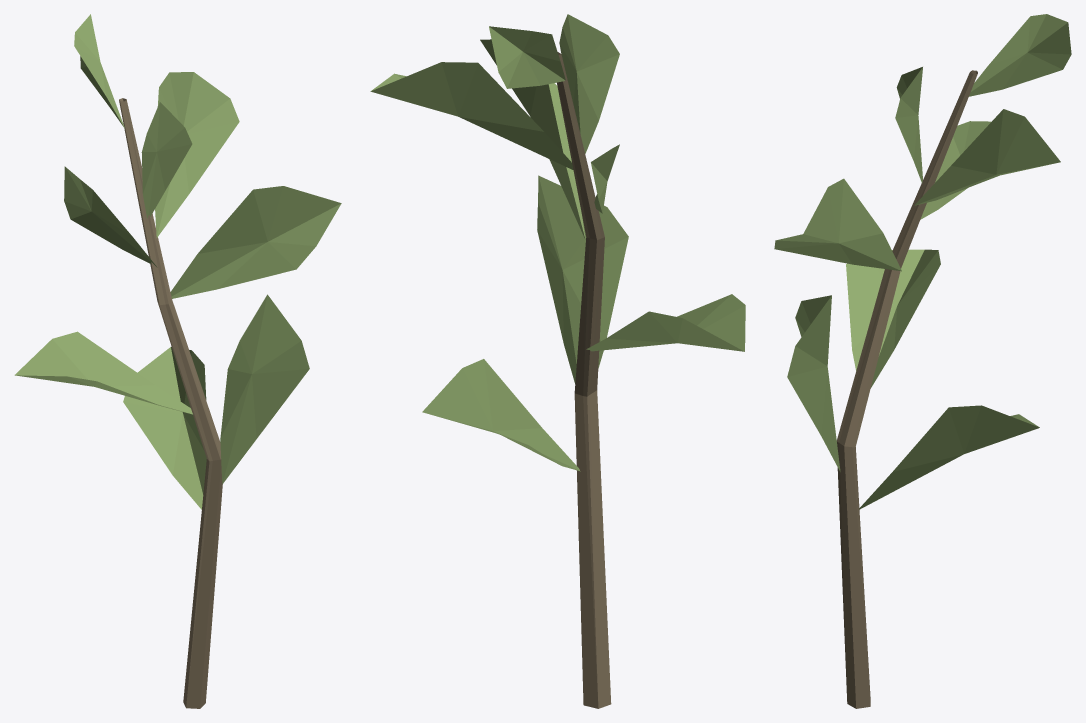
The model's file is Peach_1_2.fbx.
3 renders of one model, left to right at view 1: azimuth 30°, elevation 25°; view 2: azimuth 150°, elevation 25°; view 3: azimuth 270°, elevation 25°, orthographic. The views are drawn at different scales.
Visible parts, largest first — view 1: Peach_1_2; view 2: Peach_1_2; view 3: Peach_1_2.
Part boxes in pixels (<box>): Peach_1_2: <box>14,14,341,708</box>; Peach_1_2: <box>370,14,745,708</box>; Peach_1_2: <box>774,14,1071,708</box>.
Bounding box in the file's own units: 42.88 × 93.91 × 37.34.
